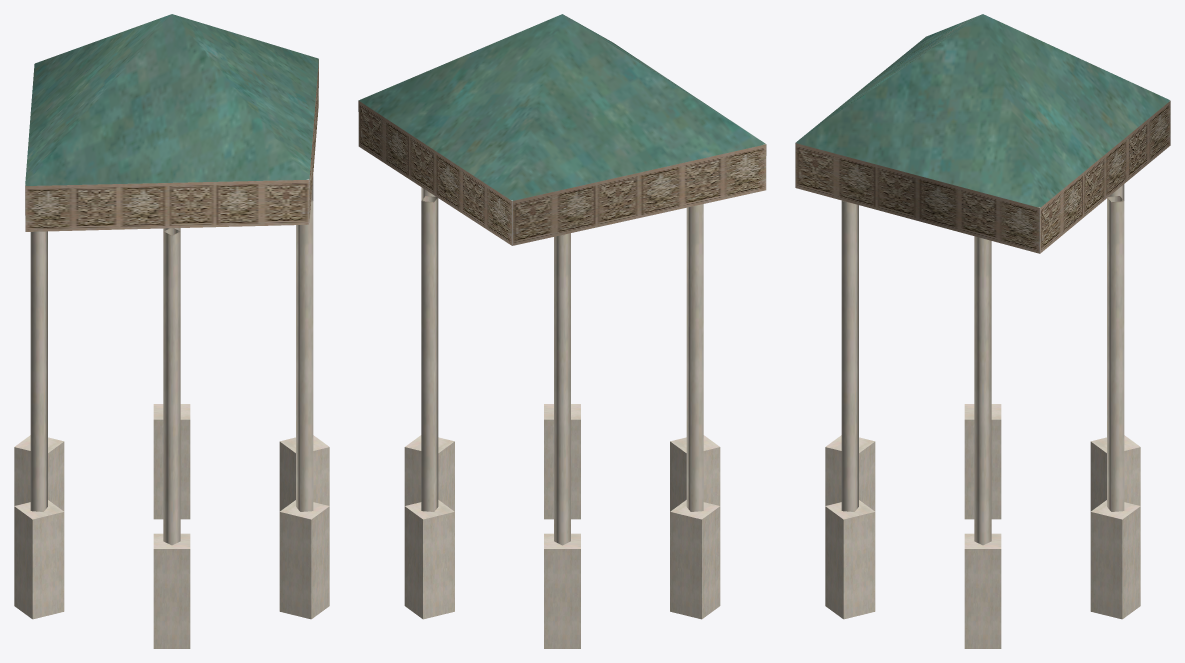
The model's file is thm_nboo_imprv_garden_gazebo_sml_s01_l3.fbx.
3 renders of one model, left to right at view 1: azimuth 30°, elevation 25°; view 2: azimuth 150°, elevation 25°; view 3: azimuth 270°, elevation 25°, orthographic.
Parts seen in each view (by area): view 1: mesh_node; view 2: mesh_node; view 3: mesh_node.
Boxes of the visible parts, x1,y1,x2,y2 form: mesh_node: (14, 14, 329, 648); mesh_node: (358, 14, 766, 648); mesh_node: (795, 14, 1170, 648).
Size of the model in its own units: 8.07 by 12.35 by 7.48.
